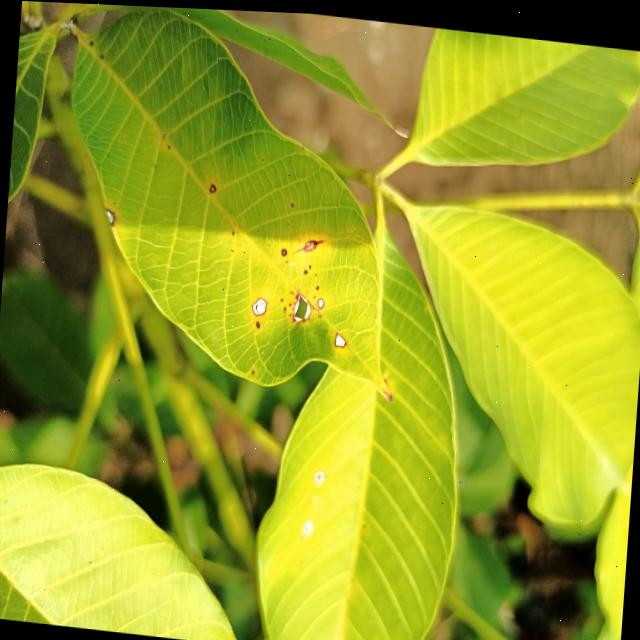Colletotrichum: (252, 293, 266, 313), (334, 329, 346, 344), (208, 180, 216, 191), (317, 295, 324, 305), (280, 245, 287, 253), (256, 317, 260, 325), (304, 266, 308, 270), (316, 282, 320, 286), (251, 366, 254, 371), (308, 261, 310, 265)
